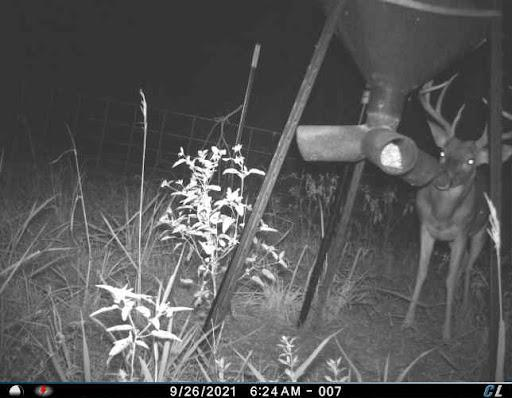Deer: (399, 69, 512, 358)
